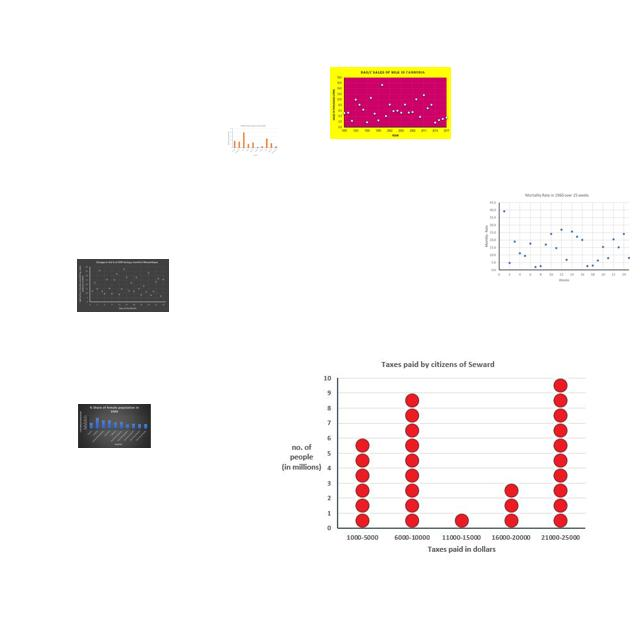Graph: (272, 353, 591, 562), (483, 193, 633, 284), (330, 67, 451, 139), (77, 259, 169, 312), (78, 404, 151, 448), (227, 124, 279, 157)
